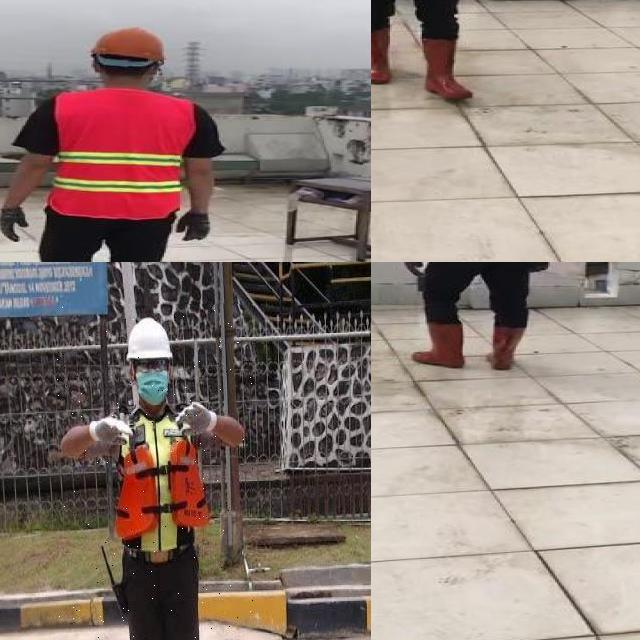boots: (417, 38, 470, 103), (413, 321, 464, 367), (488, 326, 526, 371), (371, 25, 393, 84)
hand_glove: (180, 212, 214, 247), (0, 207, 25, 239), (404, 262, 429, 274), (532, 262, 551, 274)
head_helmet: (87, 24, 170, 61), (126, 318, 175, 367)
person: (56, 304, 254, 640), (0, 23, 228, 262), (398, 262, 562, 372), (371, 0, 494, 106)
vest: (54, 90, 194, 221), (117, 405, 209, 558)
